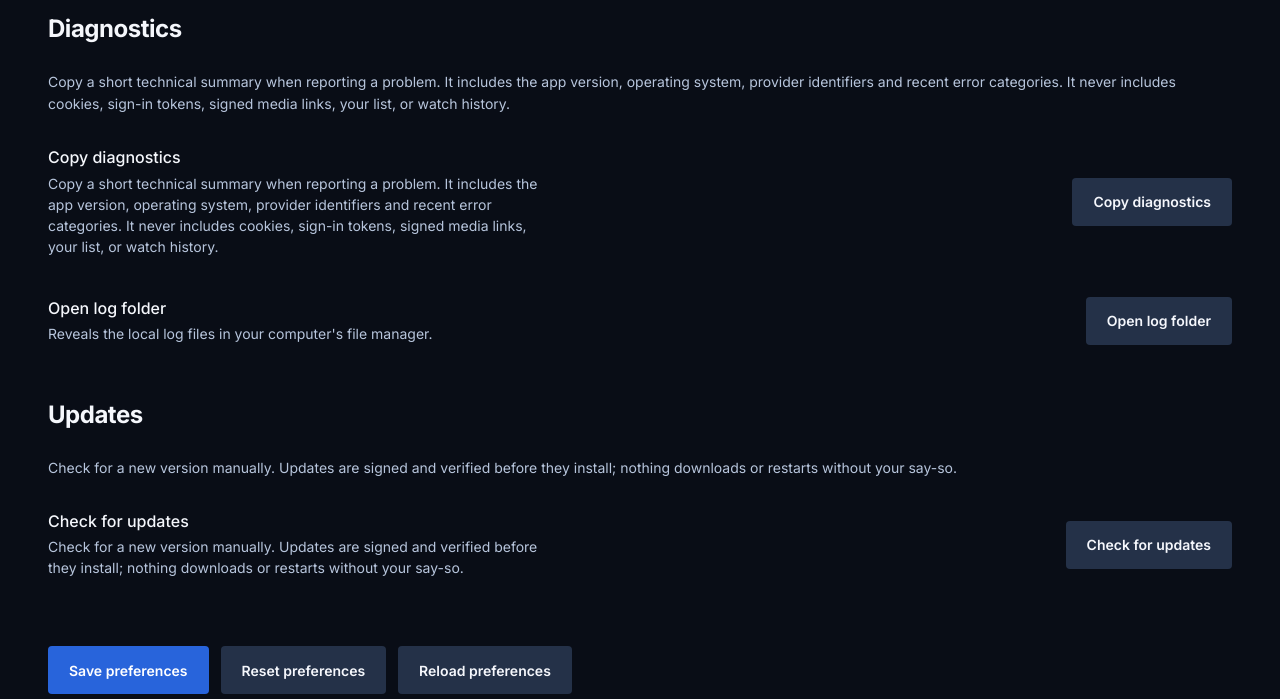
Scenario: Preferences diagnostics › surfaces a failed open attempt without pretending success
This screenshot has width=1280, height=699.
(page scrolled)
Click the button "Open log folder" at (1159, 321), box left=1086, top=297, right=1232, bottom=345
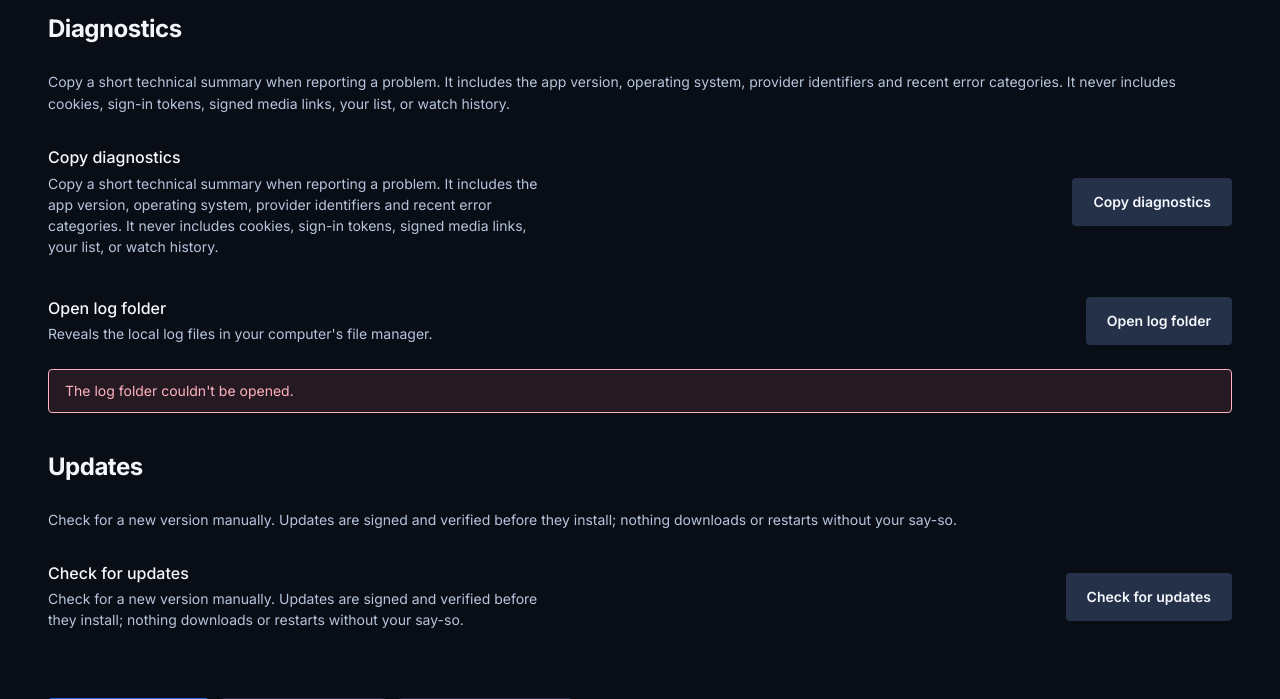
Check: the text "The log folder couldn't be opened." is shown, box left=65, top=382, right=294, bottom=399
